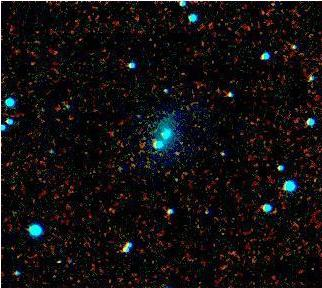star: (160, 140, 190, 170)
